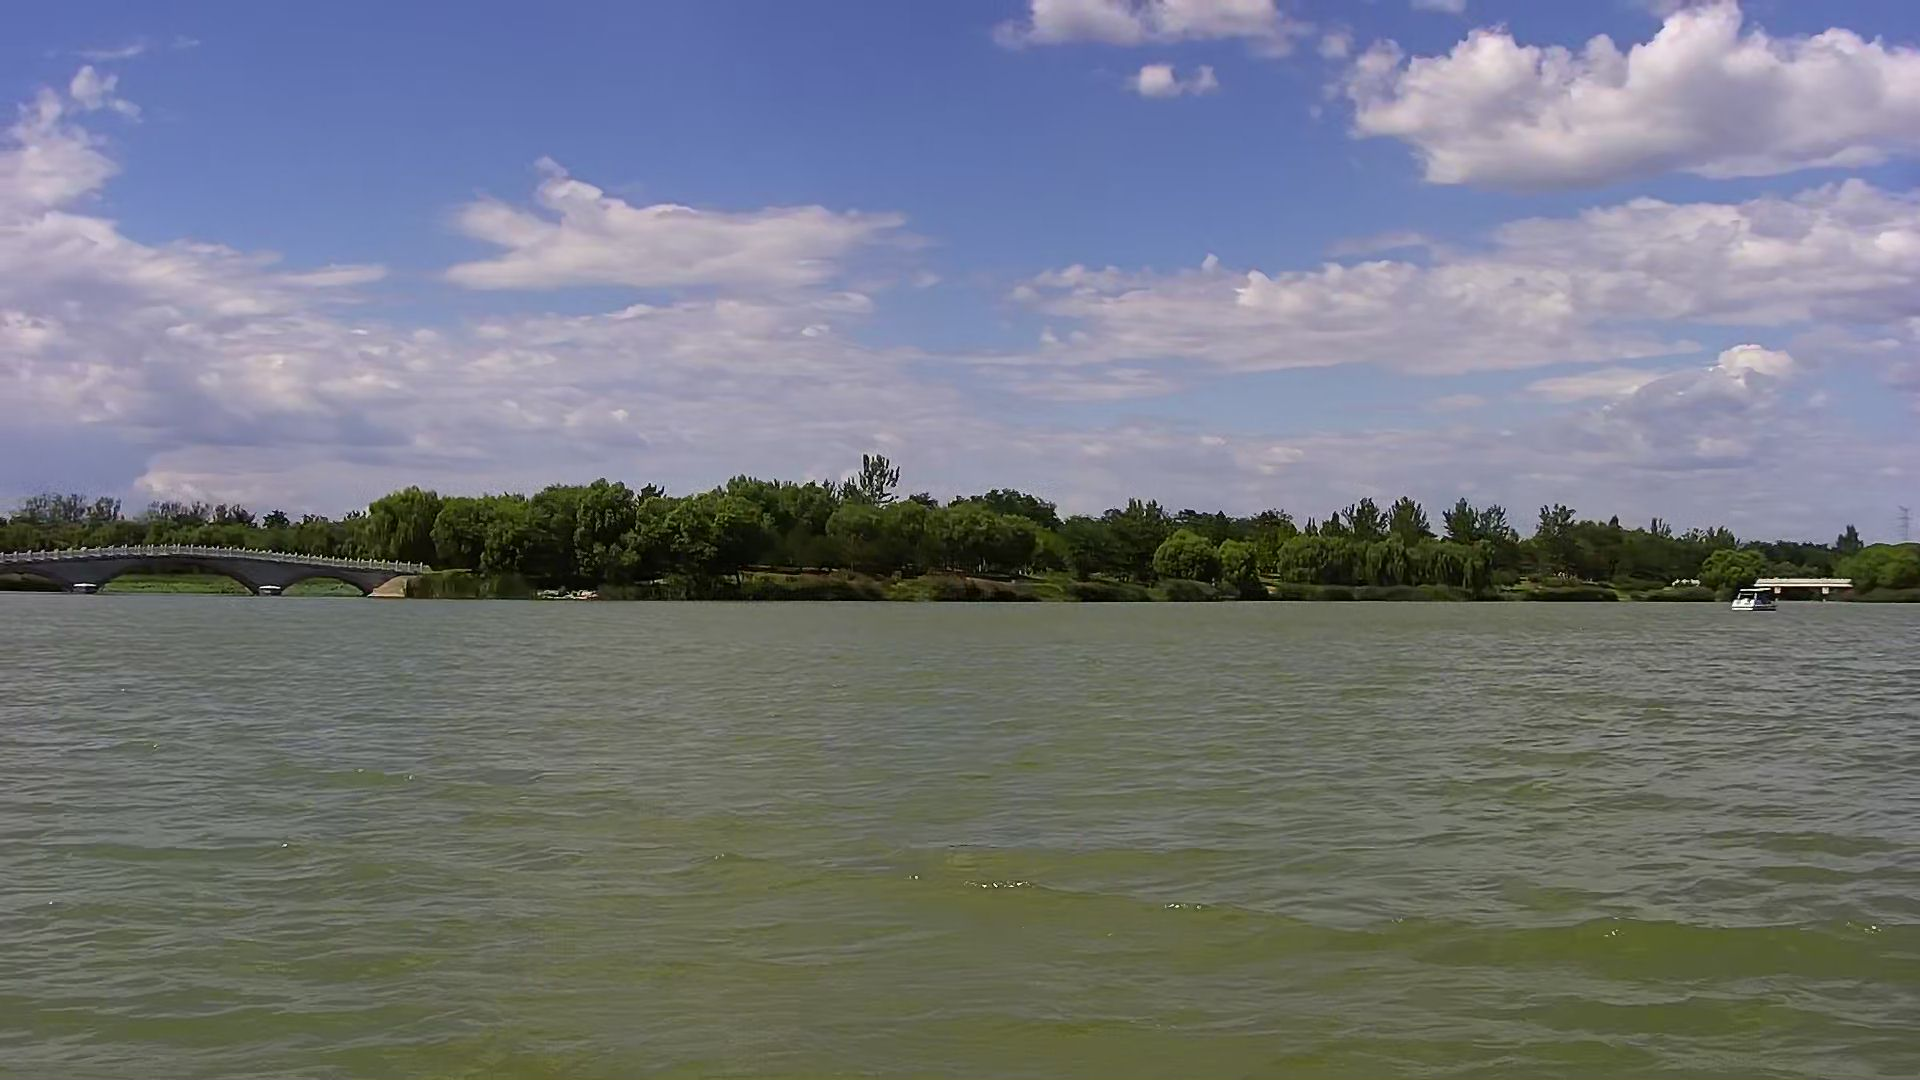boat: (1724, 582, 1788, 617)
bridge: (1, 537, 455, 604)
